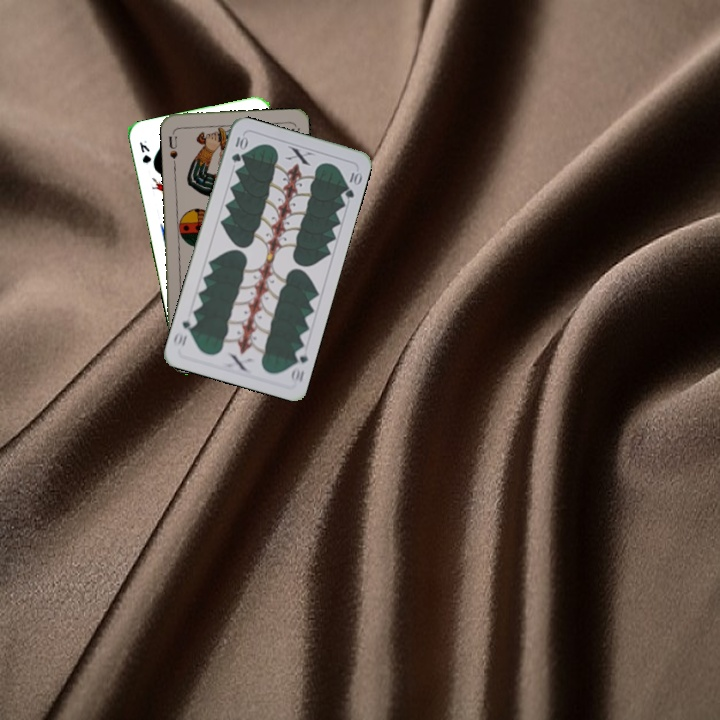G10: (287, 344, 310, 385), (227, 131, 249, 165)
GK: (135, 136, 154, 167)
SU: (165, 128, 180, 168)
